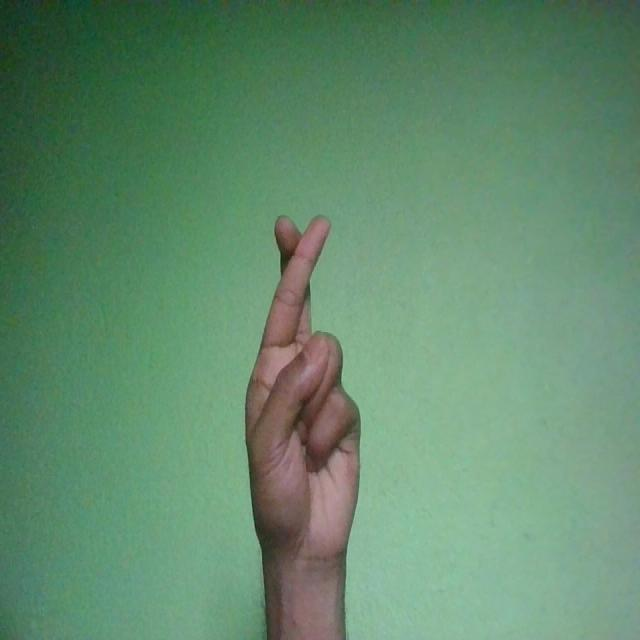Ok: (245, 213, 361, 570)
